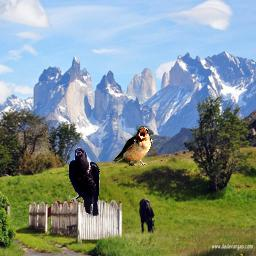Crow: (68, 147, 100, 218)
Swallow: (112, 126, 153, 166)
